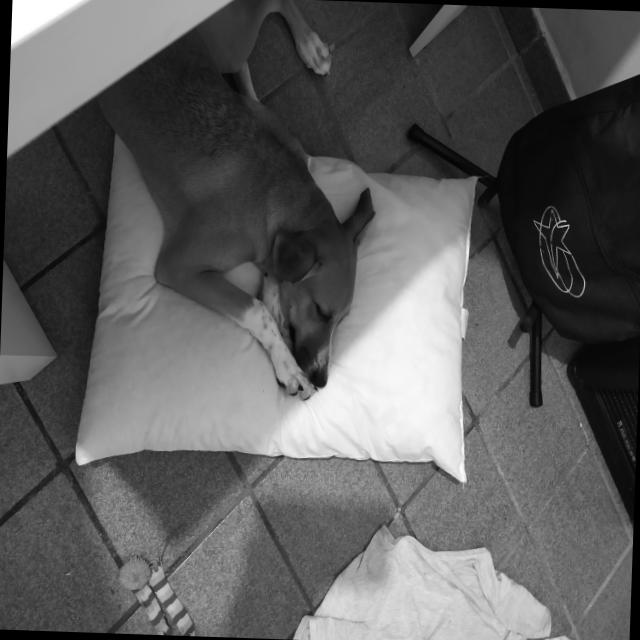laying down: (86, 0, 382, 401)
